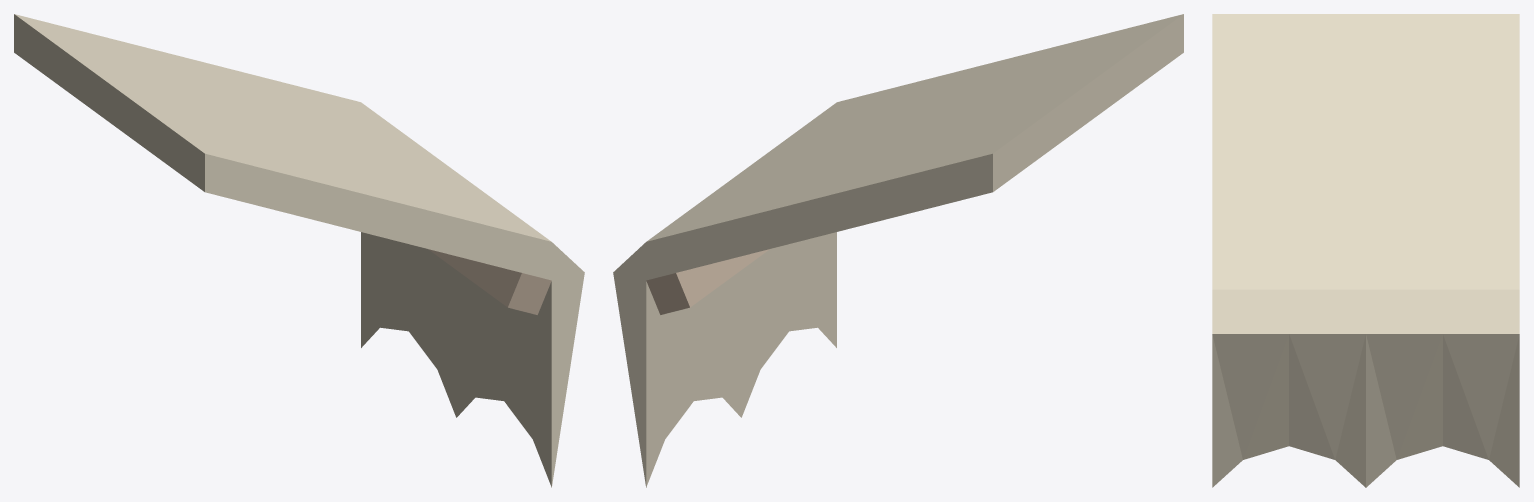
Rendered from Canopy_Ramp_Mid.glb.
3 renders of one model, left to right at view 1: azimuth 30°, elevation 25°; view 2: azimuth 150°, elevation 25°; view 3: azimuth 270°, elevation 25°, orthographic. The views are drawn at different scales.
Visible parts, largest first — view 1: object2, object1; view 2: object2, object1; view 3: object2.
Part boxes in pixels (box(x1,y1,x2,y2)): object2: box(14, 14, 584, 487); object1: box(428, 249, 551, 314); object2: box(613, 14, 1183, 487); object1: box(646, 249, 769, 314); object2: box(1212, 14, 1519, 487).
Size of the model in its own units: 1.15 by 1.21 by 1.
